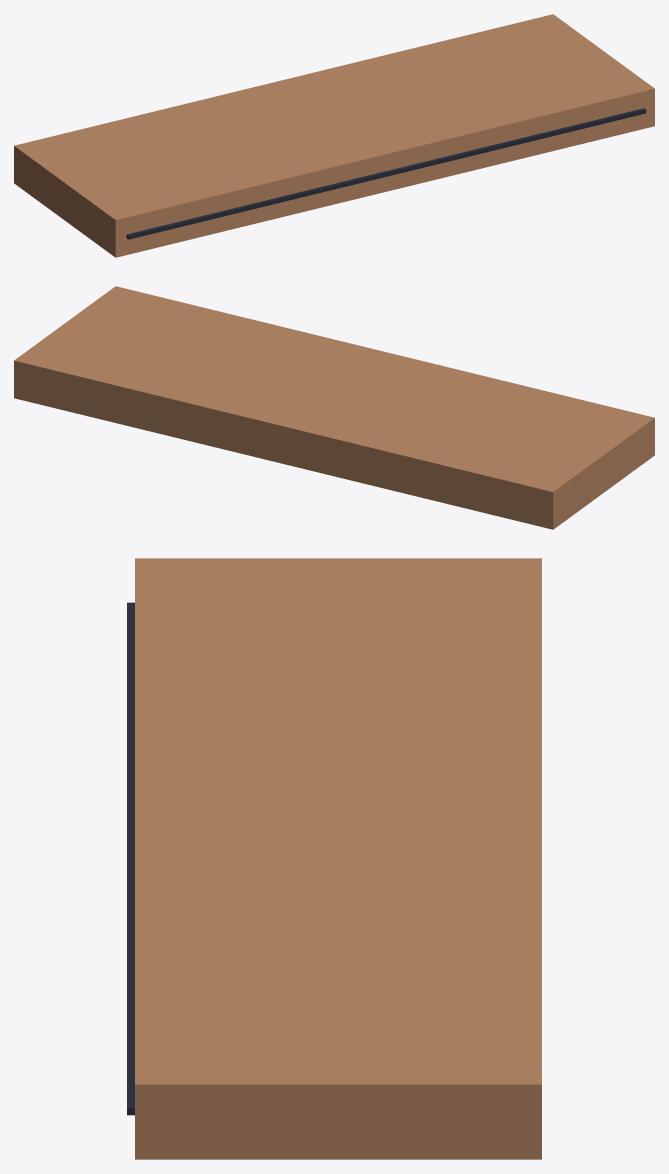
Rendered from floating-shelf.glb.
The picture shows the model from 3 angles, top to bottom: view 1: azimuth 30°, elevation 25°; view 2: azimuth 150°, elevation 25°; view 3: azimuth 270°, elevation 25°; orthographic projection. The views are drawn at different scales.
Visible parts, largest first — view 1: floating-shelf; view 2: floating-shelf; view 3: floating-shelf.
Boxes of the visible parts, x1=… form: floating-shelf: x1=14, y1=14, x2=654, y2=257; floating-shelf: x1=14, y1=286, x2=654, y2=529; floating-shelf: x1=127, y1=558, x2=541, y2=1159.
Size of the model in its own units: 60 by 4 by 20.
